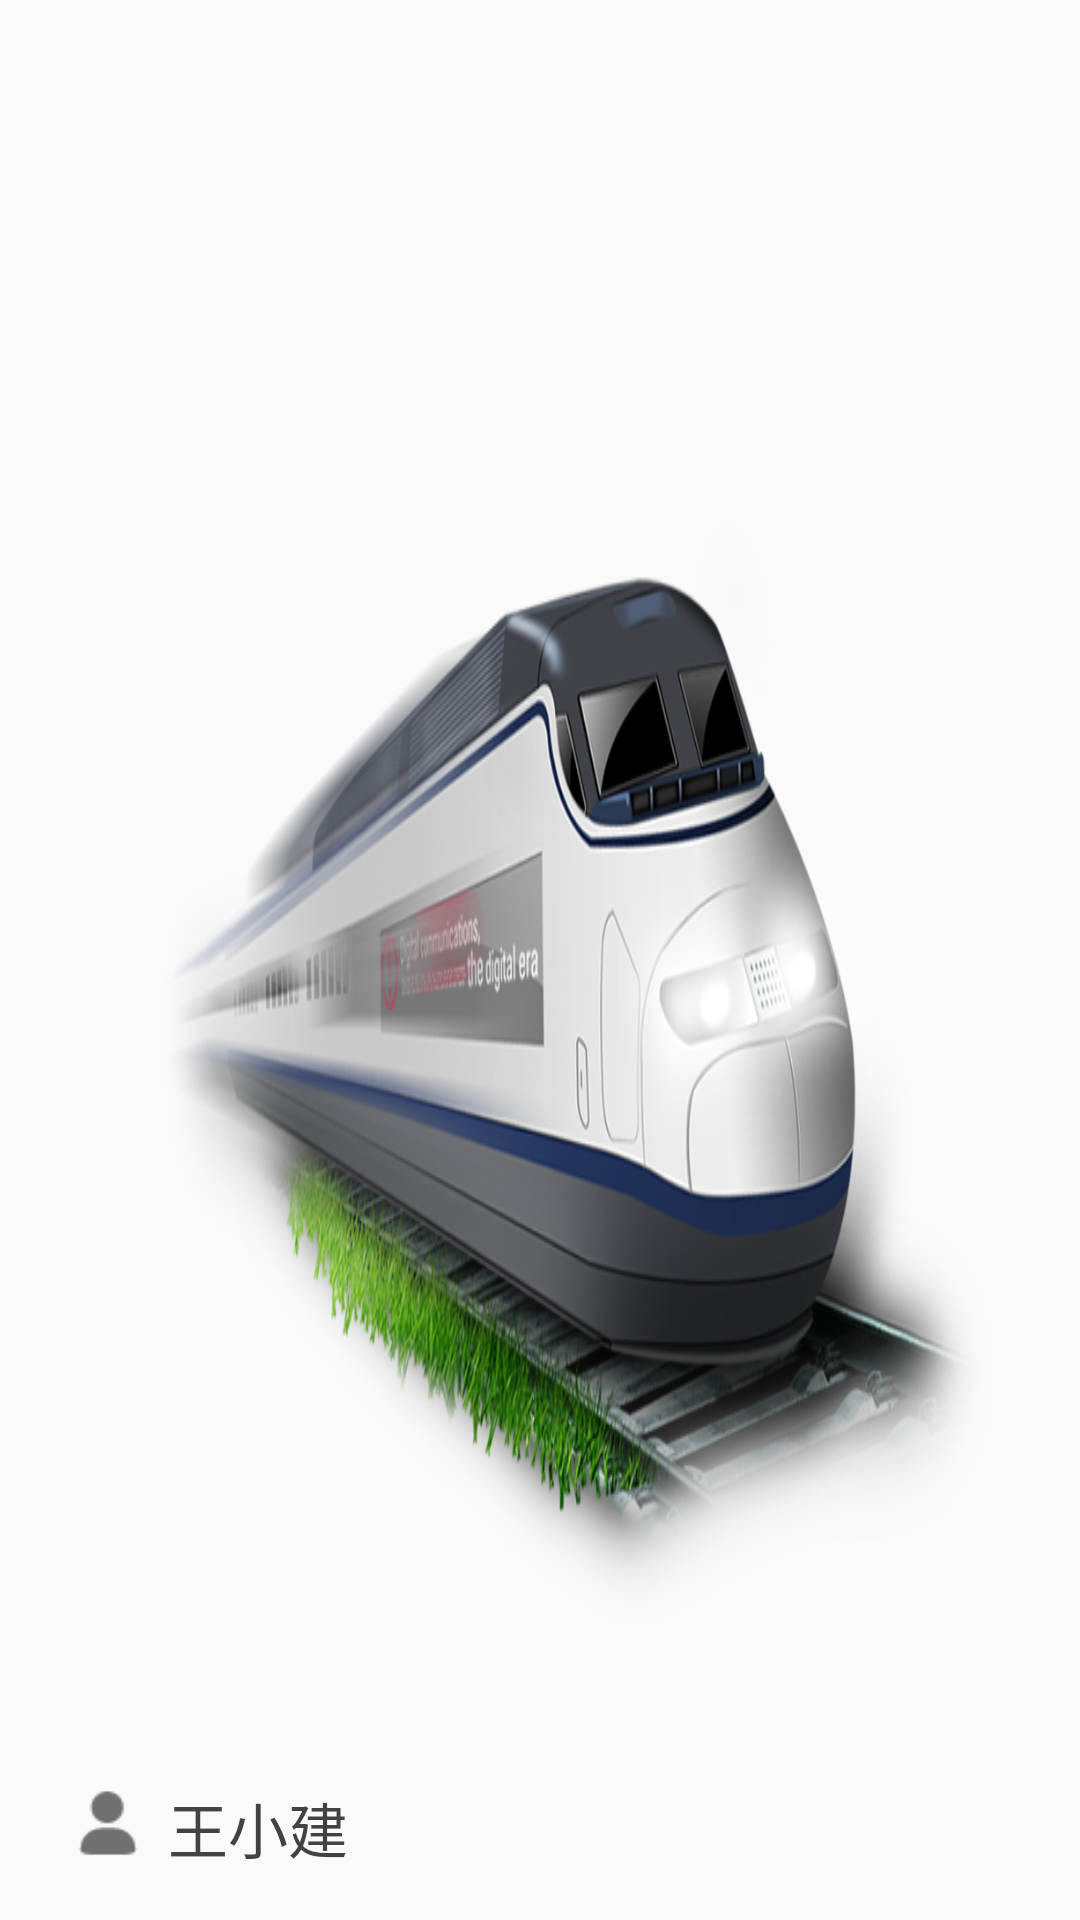

Screen size 1080*1920. Icon name, then its box in pixels as (x1, y1, x2, y2):
user: (80, 1791, 137, 1855)
